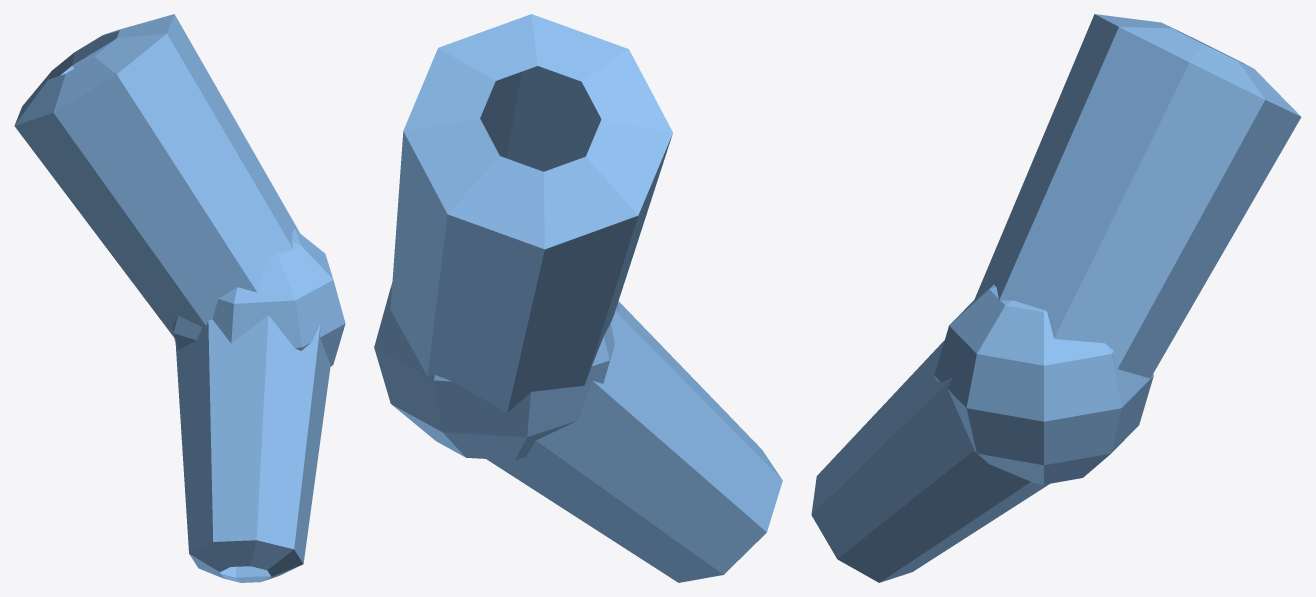
Rendered from frost_lich_sleeve_R.obj.
3 views of the same model, side by side, from view 1: azimuth 30°, elevation 25°; view 2: azimuth 150°, elevation 25°; view 3: azimuth 270°, elevation 25° (orthographic). The views are drawn at different scales.
Parts seen in each view (by area): view 1: sleeve_upper_R, sleeve_lower_R, sleeve_joint_R; view 2: sleeve_upper_R, sleeve_lower_R, sleeve_joint_R; view 3: sleeve_upper_R, sleeve_joint_R, sleeve_lower_R.
Part boxes in pixels (x1=…): sleeve_upper_R: x1=14, y1=14, x2=299, y2=338; sleeve_lower_R: x1=175, y1=315, x2=330, y2=582; sleeve_joint_R: x1=171, y1=229, x2=345, y2=366; sleeve_upper_R: x1=390, y1=14, x2=672, y2=412; sleeve_lower_R: x1=486, y1=301, x2=782, y2=582; sleeve_joint_R: x1=374, y1=283, x2=619, y2=460; sleeve_upper_R: x1=974, y1=14, x2=1301, y2=378; sleeve_joint_R: x1=934, y1=284, x2=1153, y2=484; sleeve_lower_R: x1=811, y1=340, x2=1049, y2=582.
Bounding box in the file's own units: 0.4752 × 0.8537 × 0.6819.
